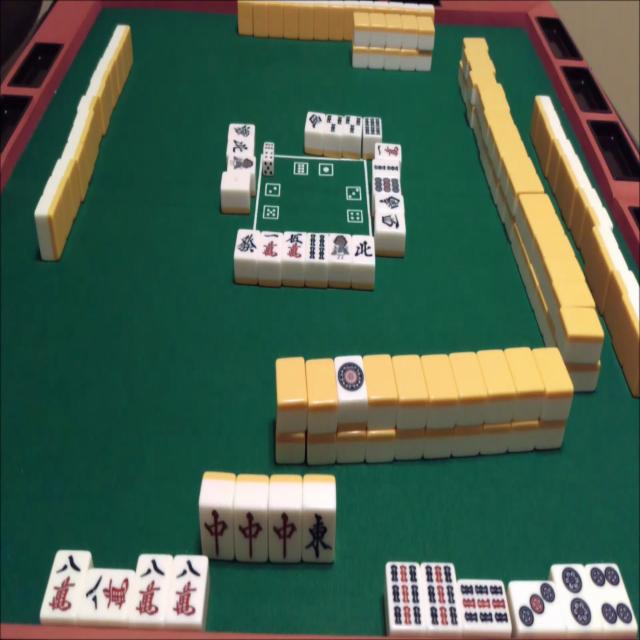east: (305, 512, 336, 562)
fa: (236, 228, 256, 255)
m1: (263, 230, 283, 258)
m5: (284, 234, 305, 262)
m8: (47, 553, 86, 615), (173, 558, 208, 620), (134, 556, 168, 619), (83, 570, 128, 615)
north: (354, 236, 374, 262)
s1: (329, 232, 352, 262)
s4: (308, 232, 328, 262)
s9: (388, 563, 424, 630), (425, 562, 460, 630)
t1: (336, 356, 366, 398)
t2: (557, 564, 596, 631)
t3: (515, 580, 559, 630)
t4: (588, 562, 634, 632)
t9: (462, 581, 510, 629)
zhong: (271, 512, 301, 561), (202, 509, 232, 558), (237, 512, 267, 560)
